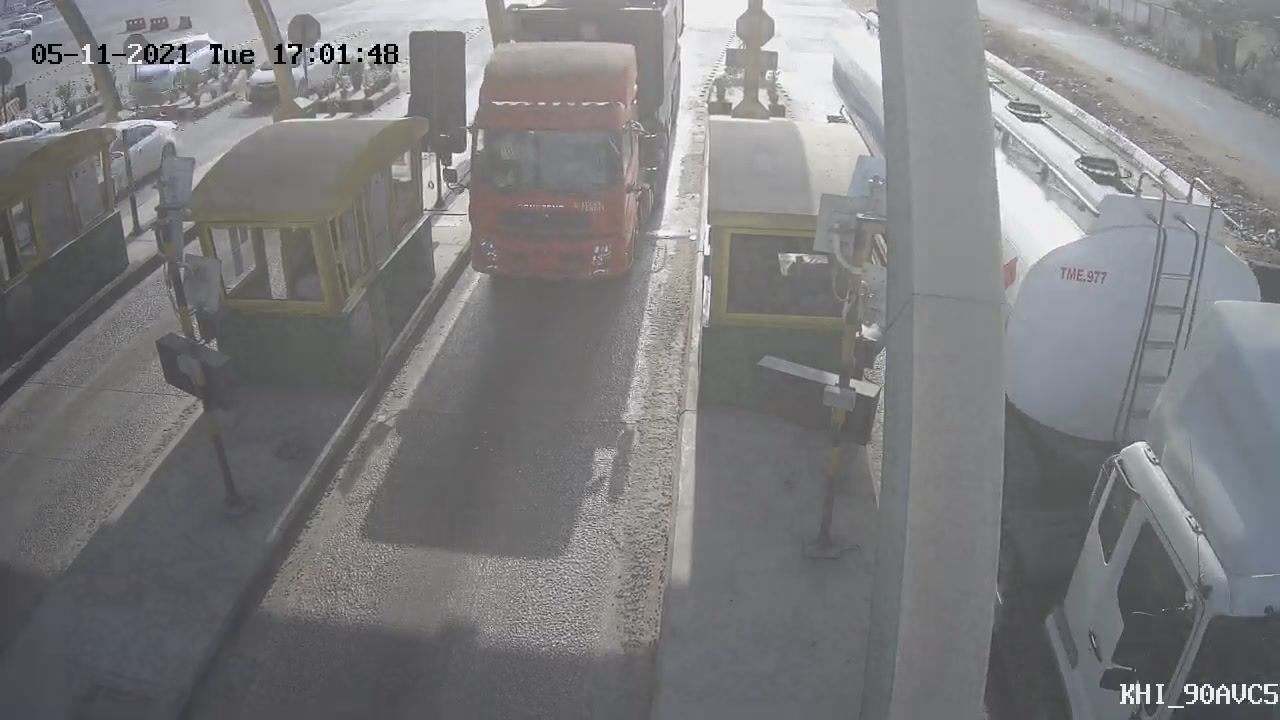F6: (425, 1, 705, 309)
